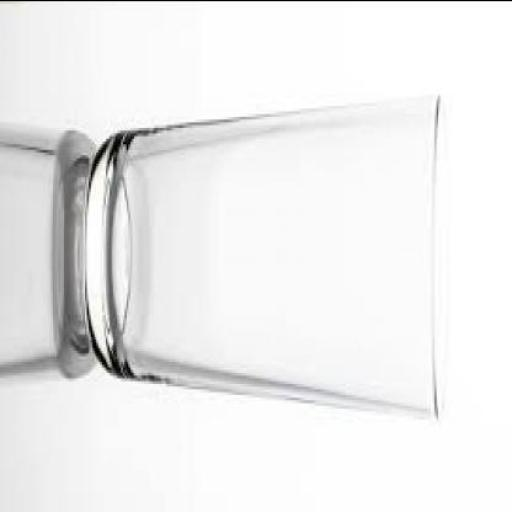glass: (86, 99, 444, 422)
